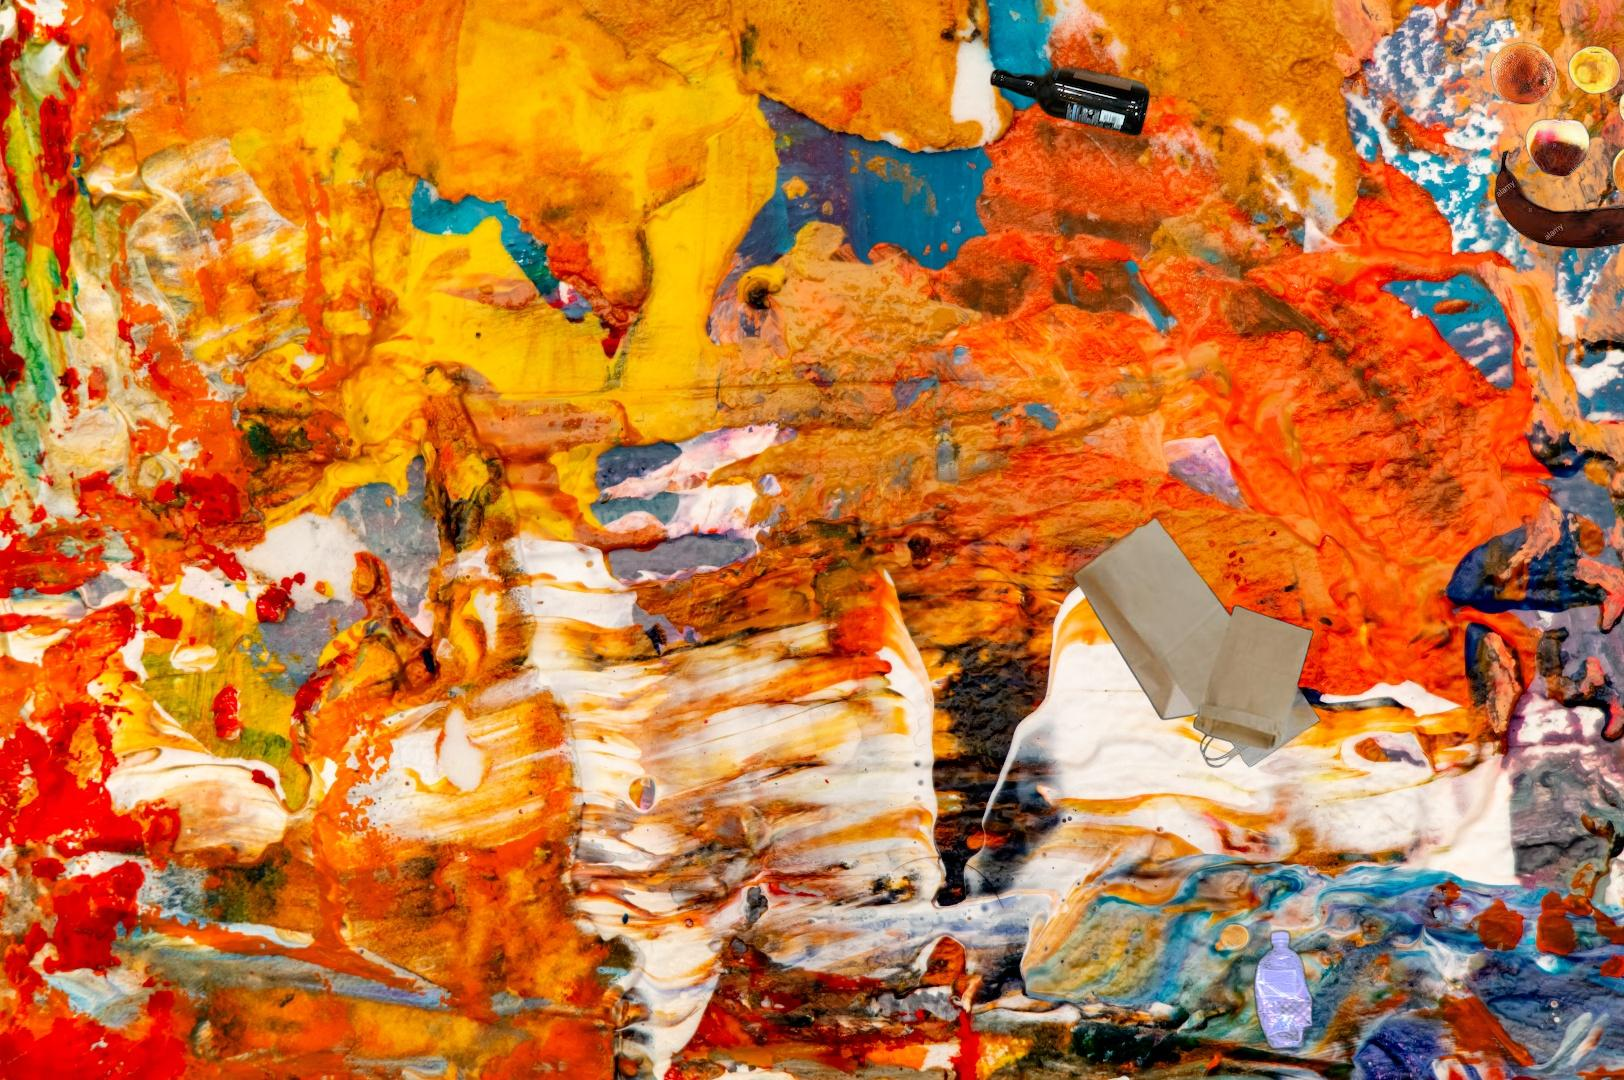biological: (1488, 39, 1624, 251)
glass: (985, 61, 1154, 137)
paper-bag: (1071, 513, 1322, 770)
plastic-bottles: (1251, 925, 1318, 1055)
trash: (1002, 1073, 1151, 1080)
